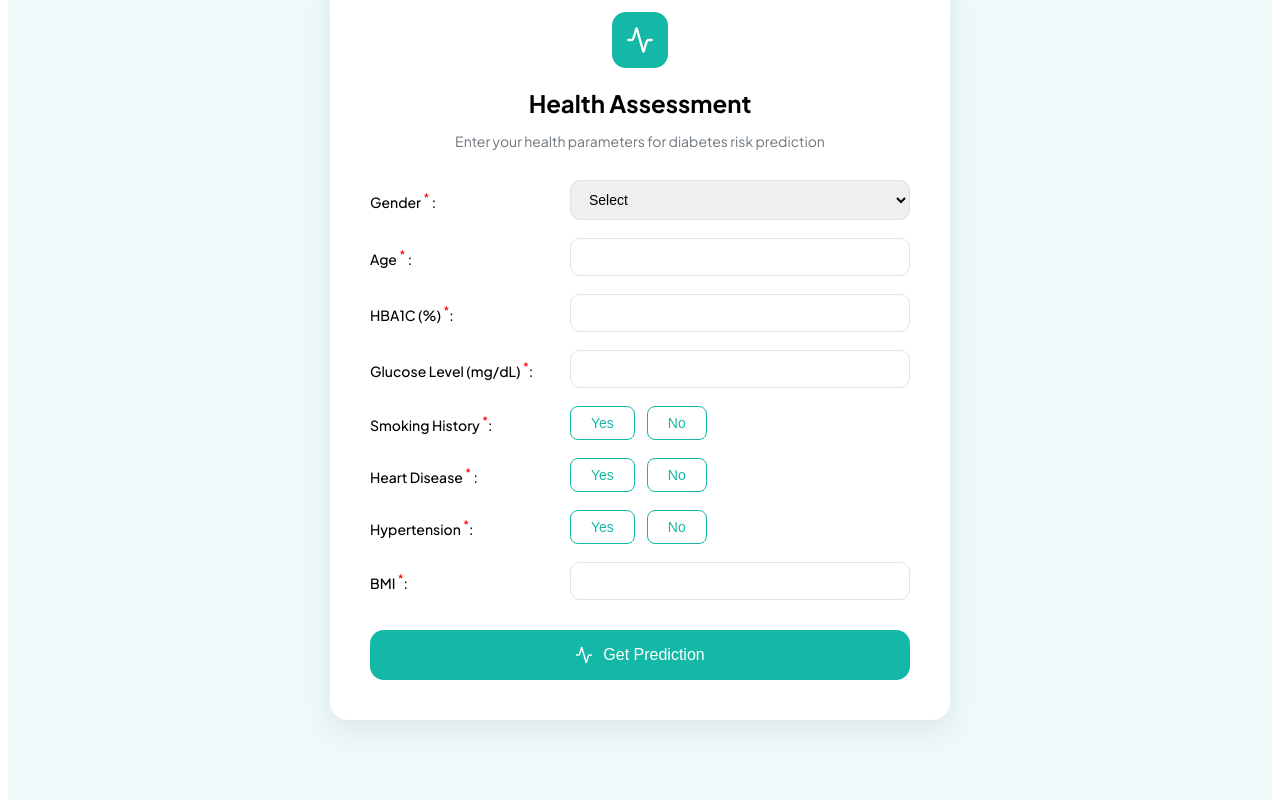
Scenario: Predict Component › shows validation error when required fields are missing
The width and height of the screenshot is (1280, 800).
(page scrolled)
Click the button "Get Prediction".
click(640, 655)  # box [370,630,910,680]
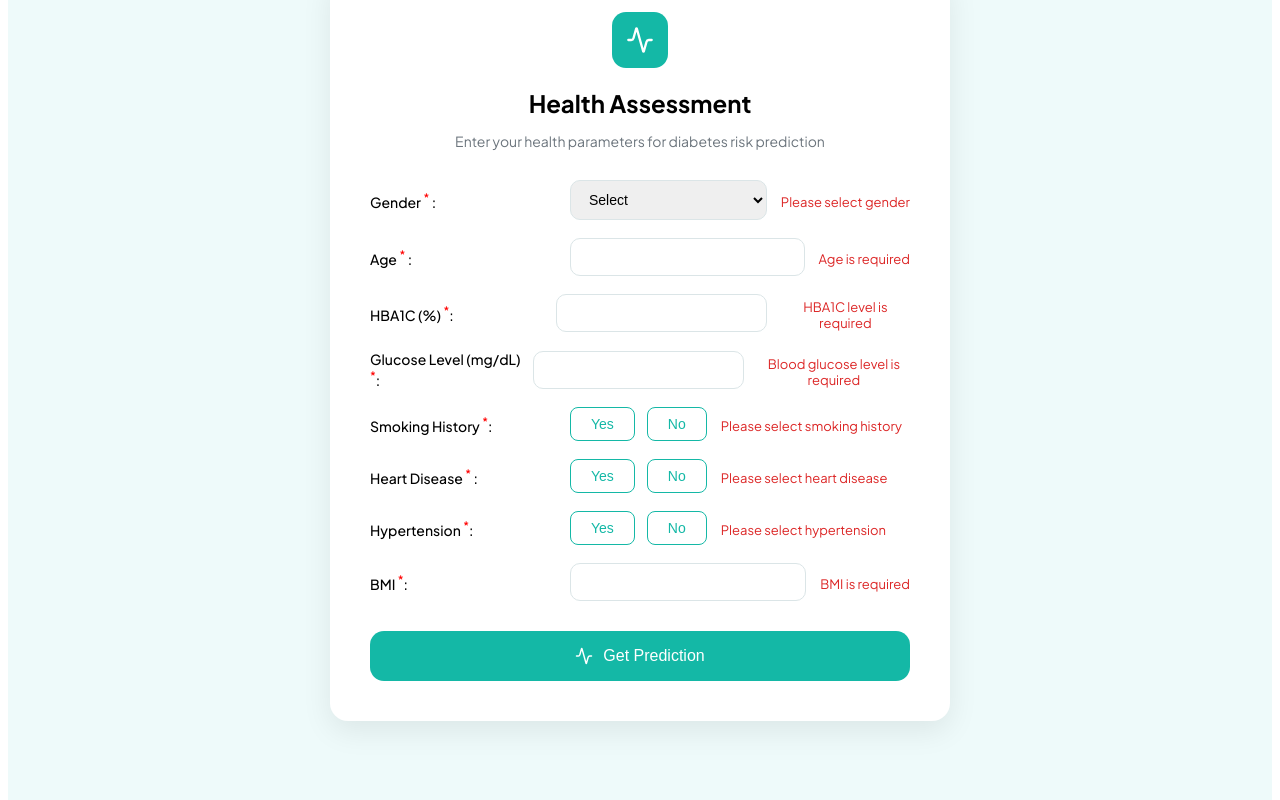
expect the text "Age is required" is shown: met, box [819,251,910,267]
